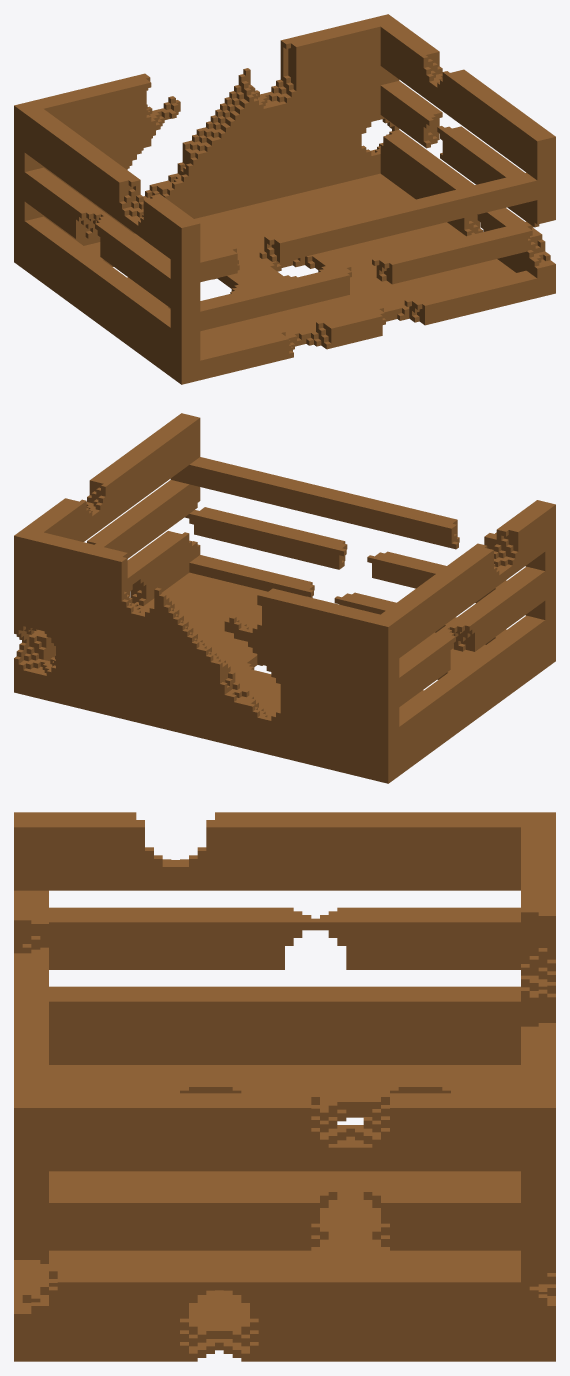
The model's file is box1trash.obj.
3 renders of one model, top to bottom at view 1: azimuth 30°, elevation 25°; view 2: azimuth 150°, elevation 25°; view 3: azimuth 270°, elevation 25°, orthographic. The views are drawn at different scales.
Parts seen in each view (by area): view 1: box1trash; view 2: box1trash; view 3: box1trash.
Boxes of the visible parts, x1,y1,x2,y2 form: box1trash: [14, 14, 555, 384]; box1trash: [14, 413, 555, 783]; box1trash: [14, 812, 555, 1361].
Size of the model in its own units: 80 by 32 by 62.
Materials: 1 (1 with a texture image).
